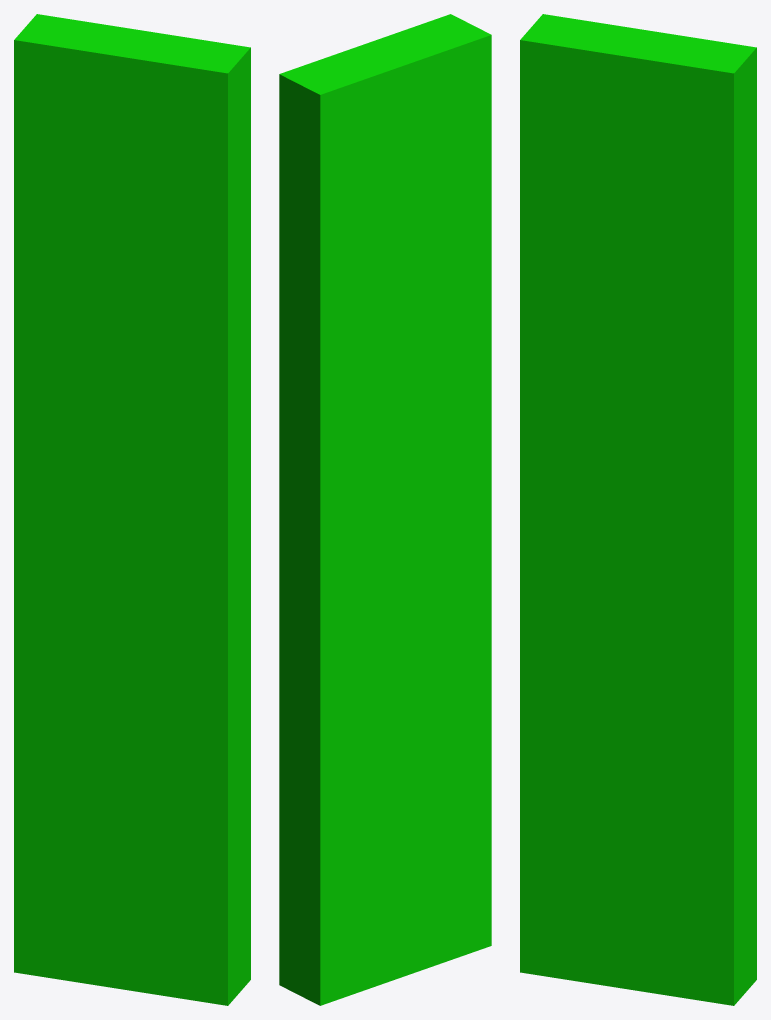
3 views of the same model, side by side, from view 1: azimuth 90°, elevation 25°; view 2: azimuth 150°, elevation 25°; view 3: azimuth 270°, elevation 25° (orthographic). The views are drawn at different scales.
Parts seen in each view (by area): view 1: Cube.022; view 2: Cube.022; view 3: Cube.022.
Part boxes in pixels (x1=…): Cube.022: x1=14, y1=14, x2=250, y2=1005; Cube.022: x1=279, y1=14, x2=491, y2=1005; Cube.022: x1=520, y1=14, x2=756, y2=1005.
Size of the model in its own units: 380 by 2776 by 639.
